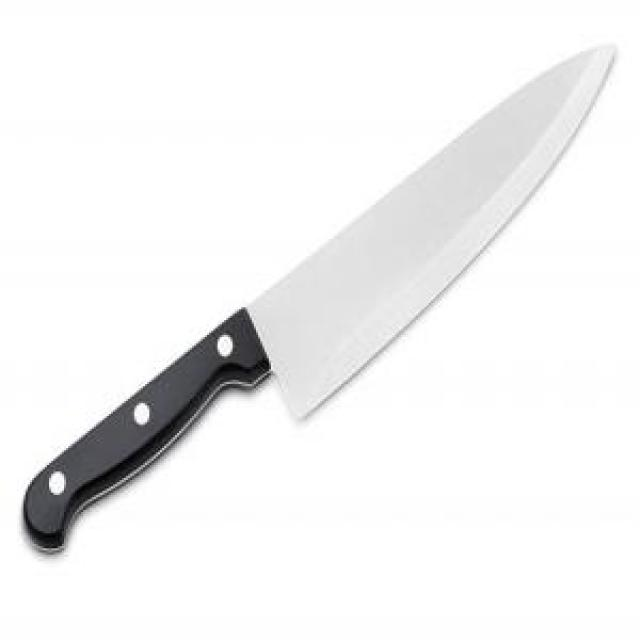knife: (24, 41, 618, 554)
